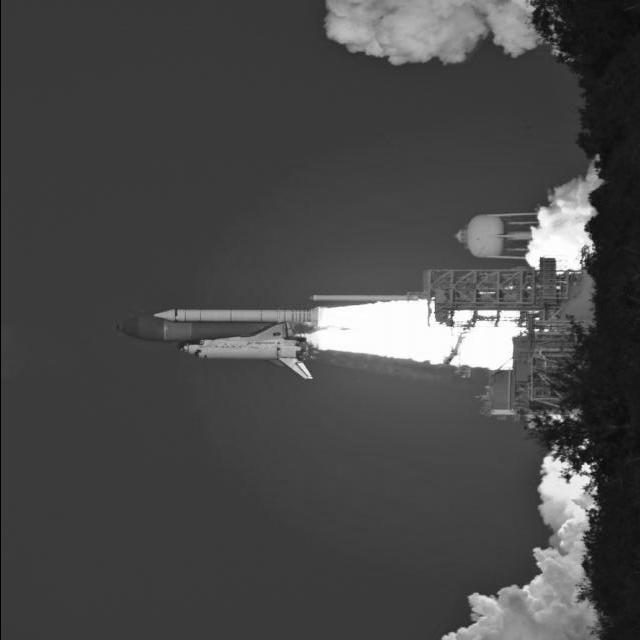missile: (148, 302, 305, 327)
